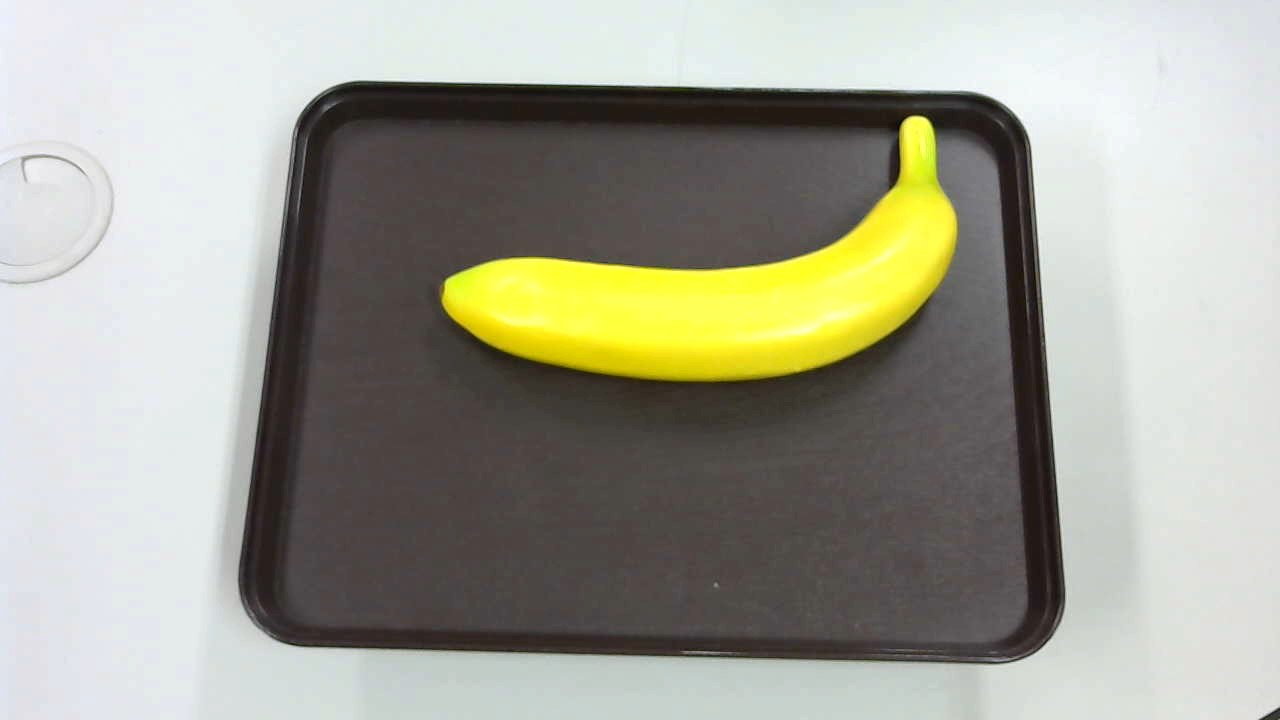banana: (434, 117, 957, 391)
